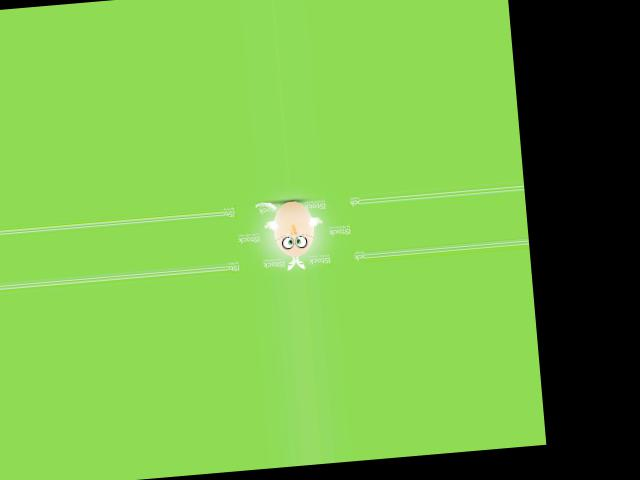egg: (270, 198, 315, 258)
